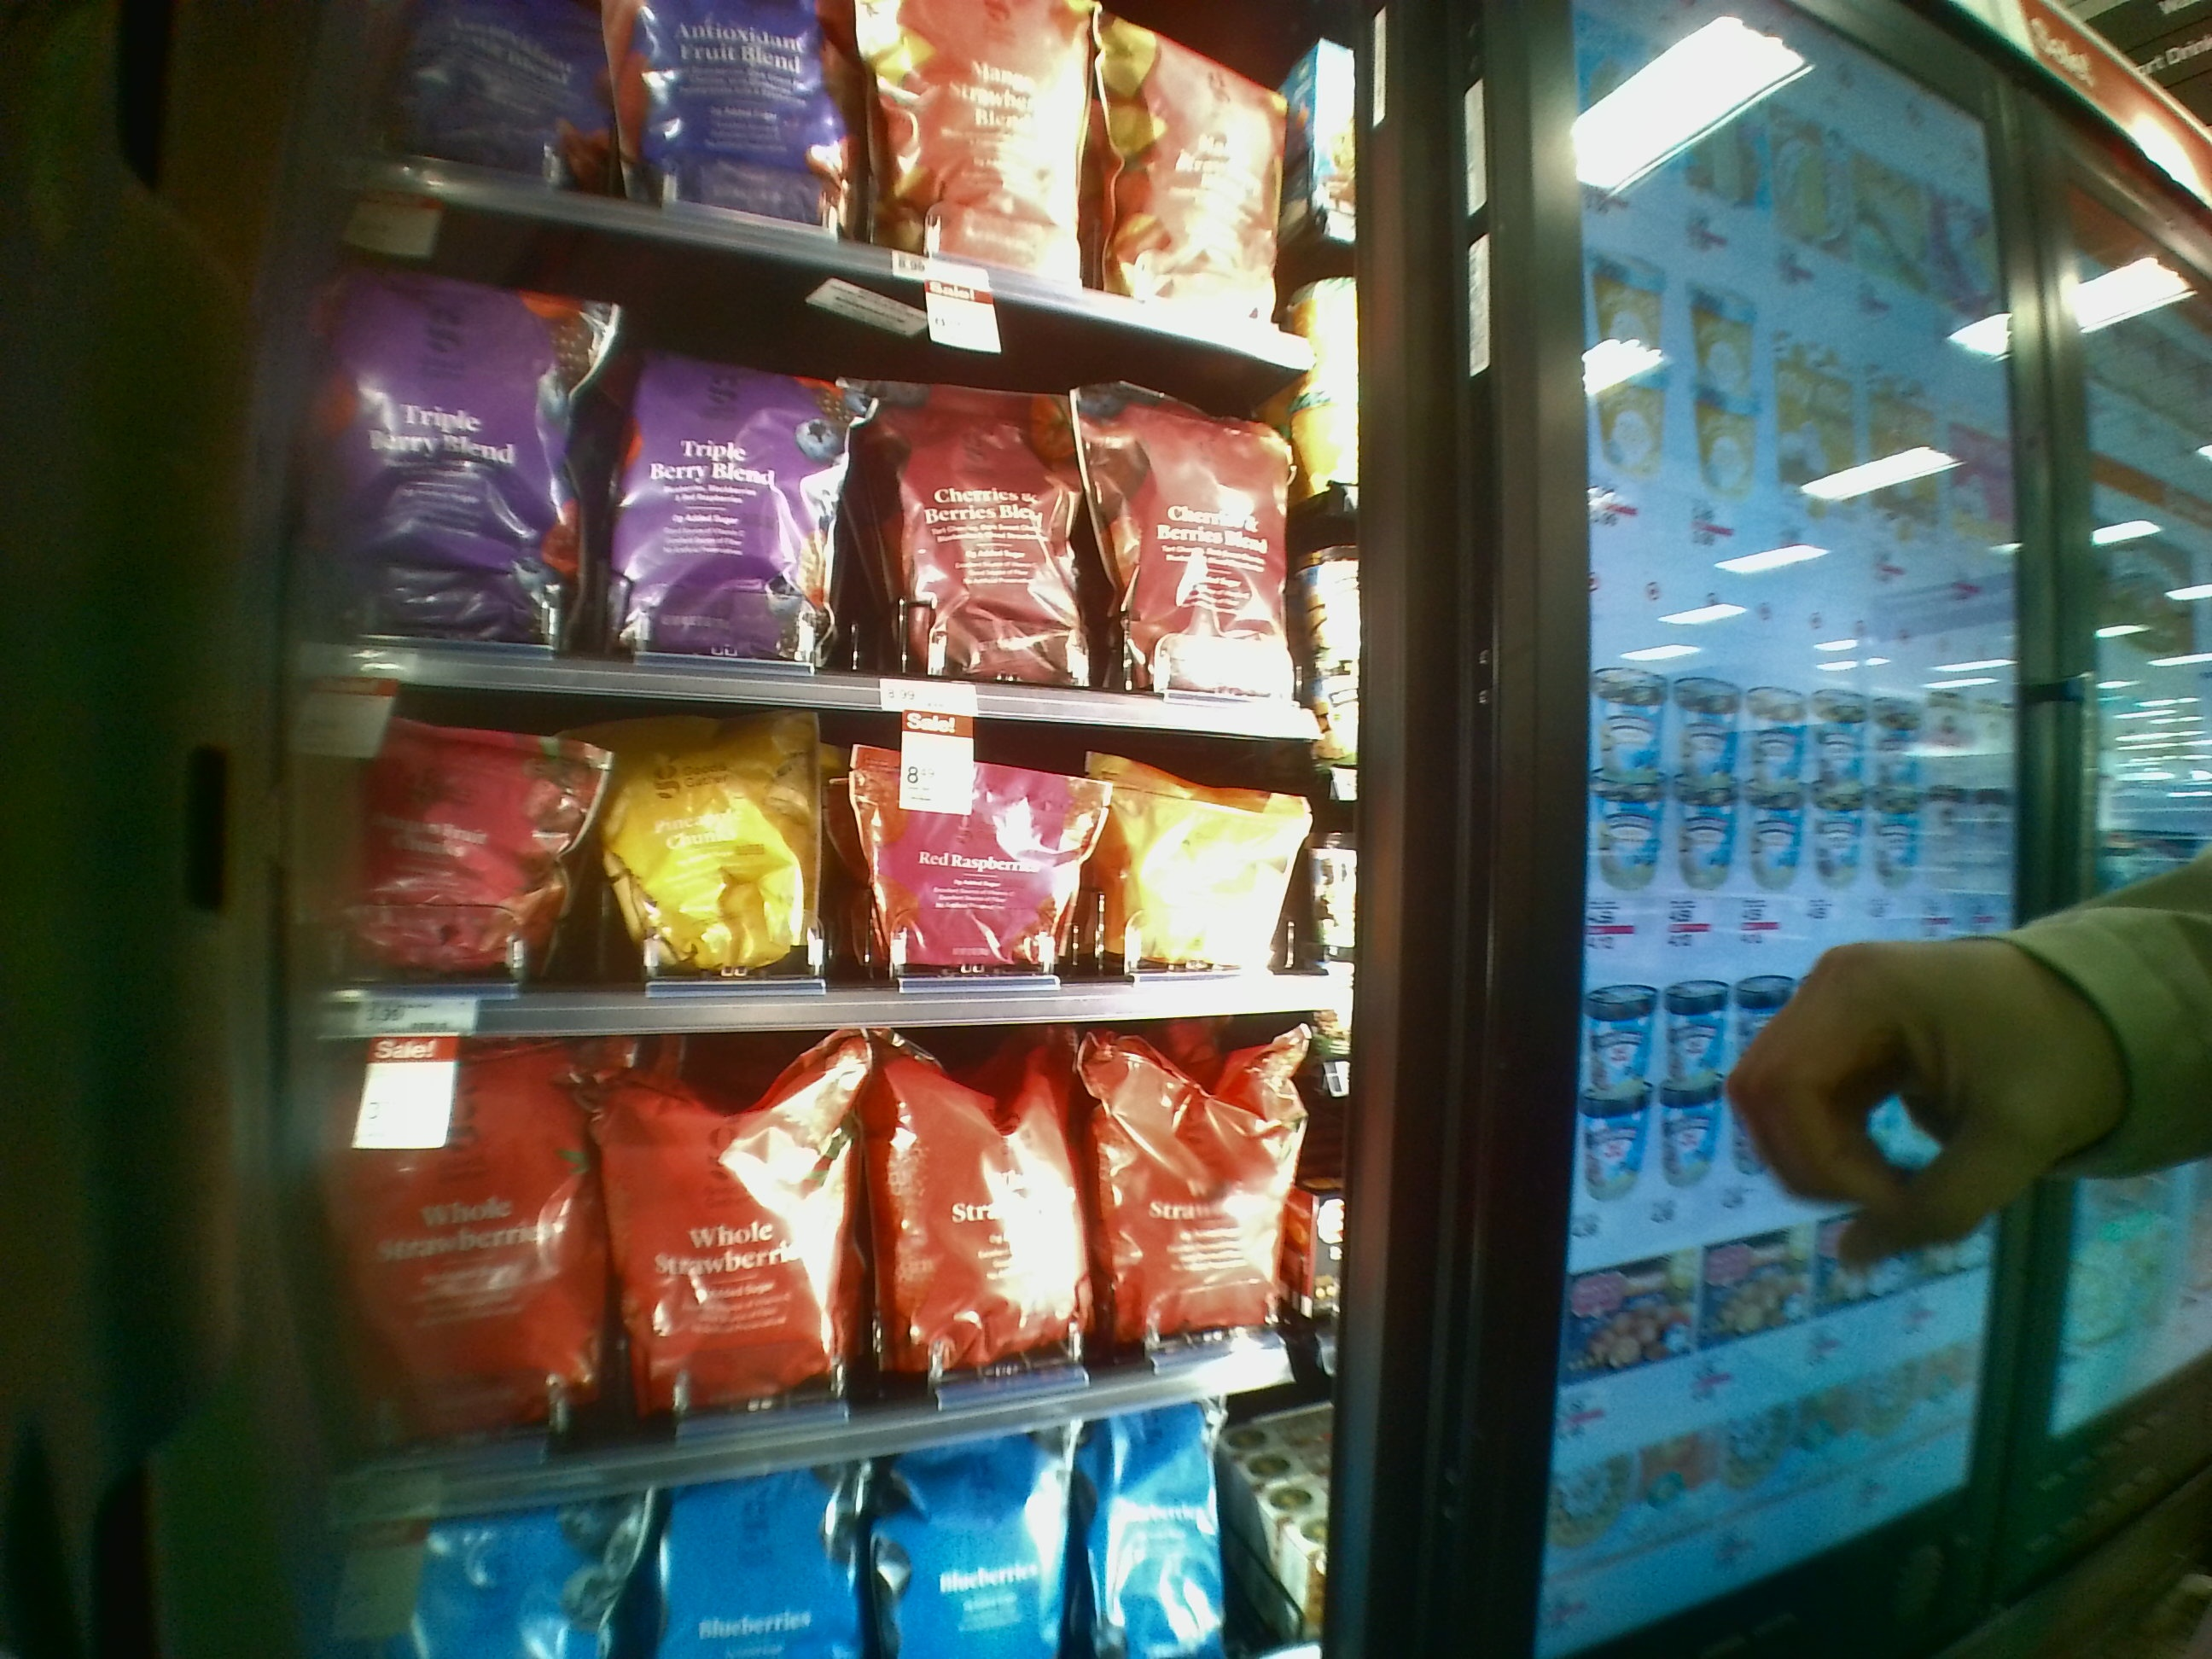shelf: (324, 1016, 1332, 1443), (312, 301, 1346, 706), (296, 699, 1346, 1021)
